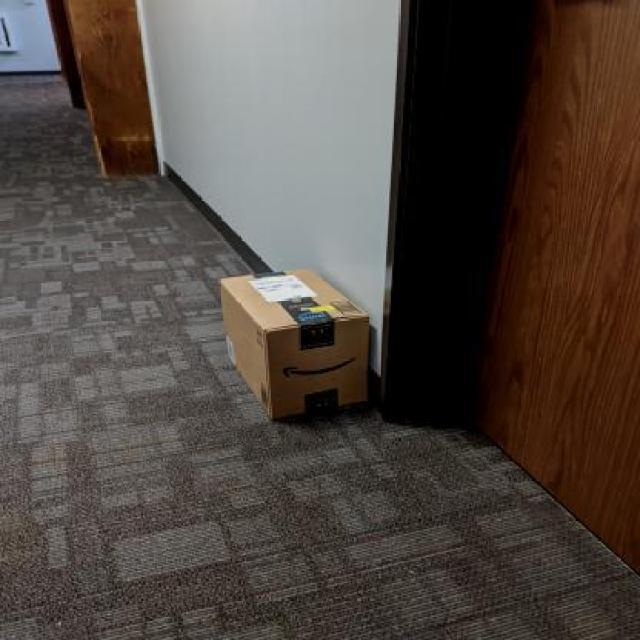box: (216, 262, 370, 416)
